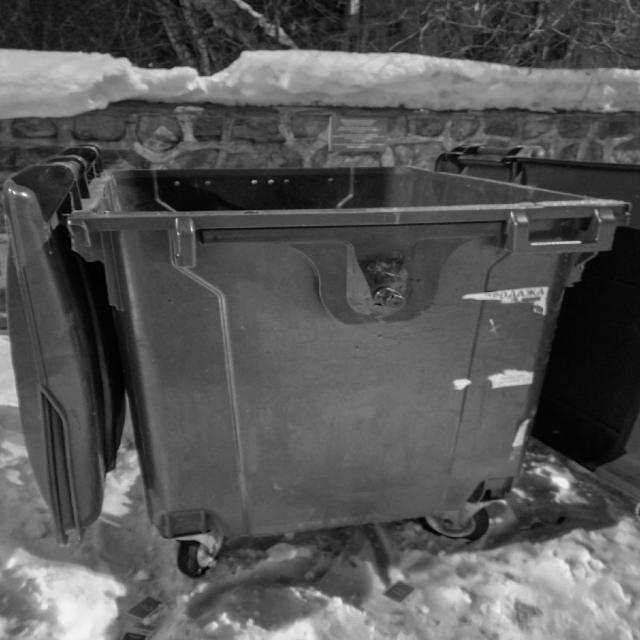bin: (0, 75, 640, 575)
